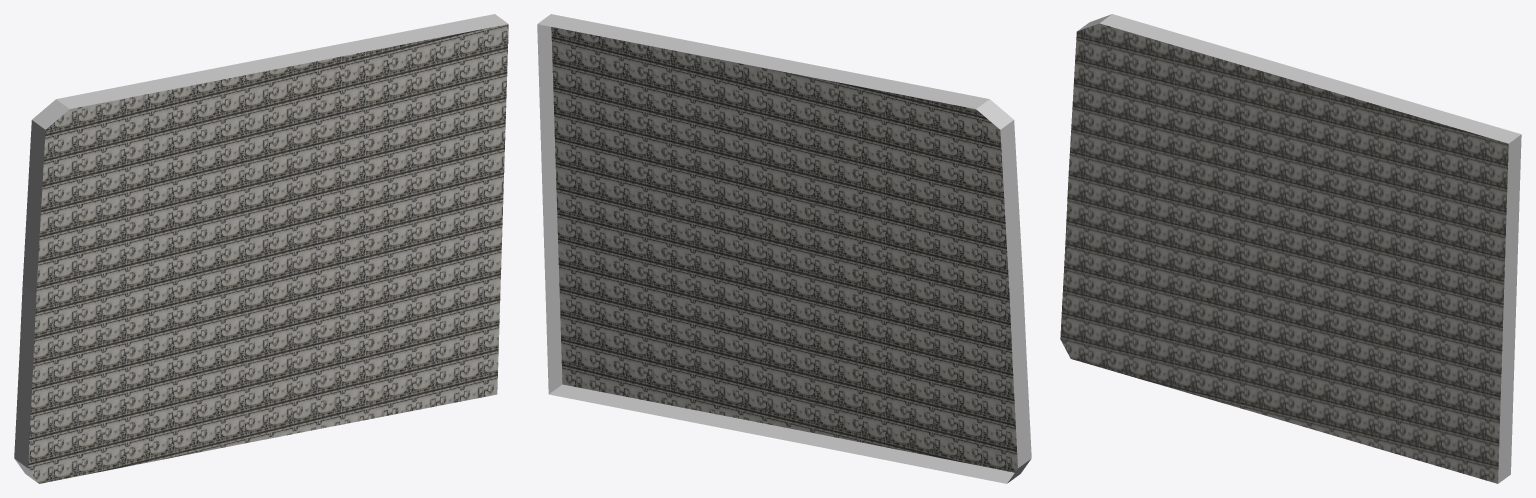
File: geospecific_254.obj
3 renders of one model, left to right at view 1: azimuth 30°, elevation 25°; view 2: azimuth 150°, elevation 25°; view 3: azimuth 330°, elevation 25°, orthographic. The views are drawn at different scales.
Parts seen in each view (by area): view 1: Building; view 2: Building; view 3: Building.
Part boxes in pixels (<box>): Building: <box>14,14,508,483</box>; Building: <box>537,14,1031,483</box>; Building: <box>1060,14,1521,483</box>.
Size of the model in its own units: 60.38 by 46.75 by 3.
